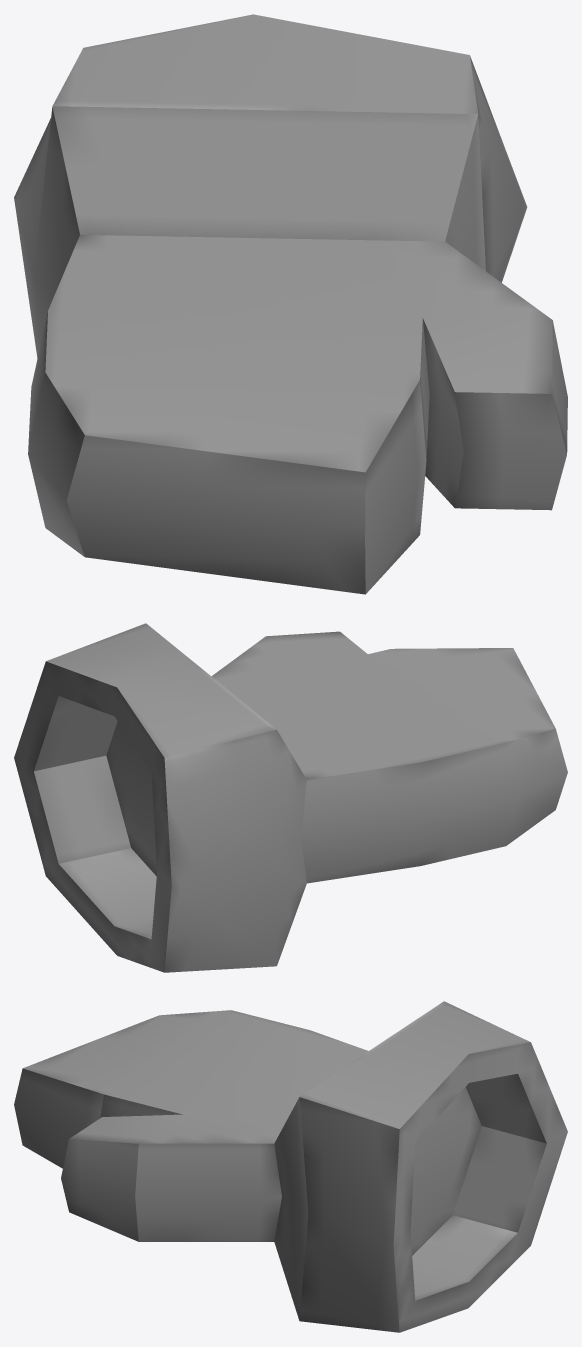
The model's file is Spacesuit_Glove_R.fbx.
3 views of the same model, one above another, from view 1: azimuth 30°, elevation 25°; view 2: azimuth 150°, elevation 25°; view 3: azimuth 270°, elevation 25° (orthographic). The views are drawn at different scales.
Visible parts, largest first — view 1: Spacesuit_Glove_R; view 2: Spacesuit_Glove_R; view 3: Spacesuit_Glove_R.
Boxes of the visible parts, bbox=[...] form: Spacesuit_Glove_R: bbox=[14, 14, 567, 594]; Spacesuit_Glove_R: bbox=[14, 623, 567, 972]; Spacesuit_Glove_R: bbox=[14, 1001, 567, 1332].
Bounding box in the file's own units: 54.24 × 32.31 × 63.81.
